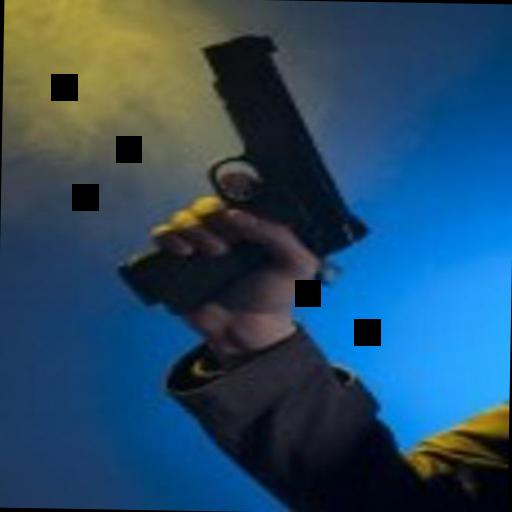Handgun: (80, 20, 382, 305)
